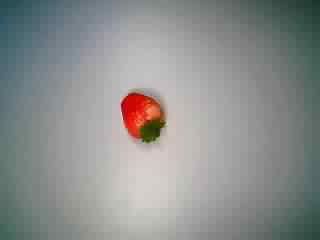strawberry: (107, 85, 175, 149)
